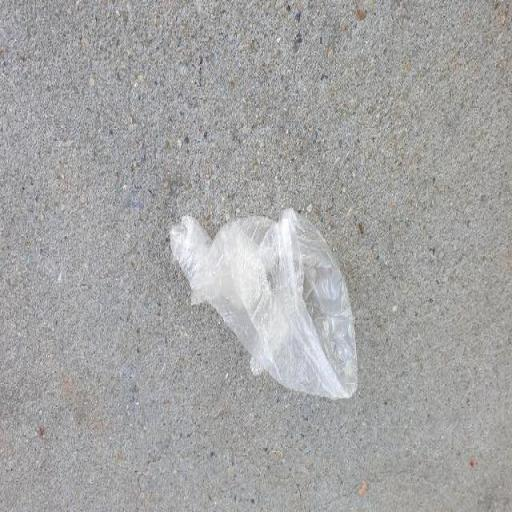plastic-bag: (168, 208, 361, 406)
